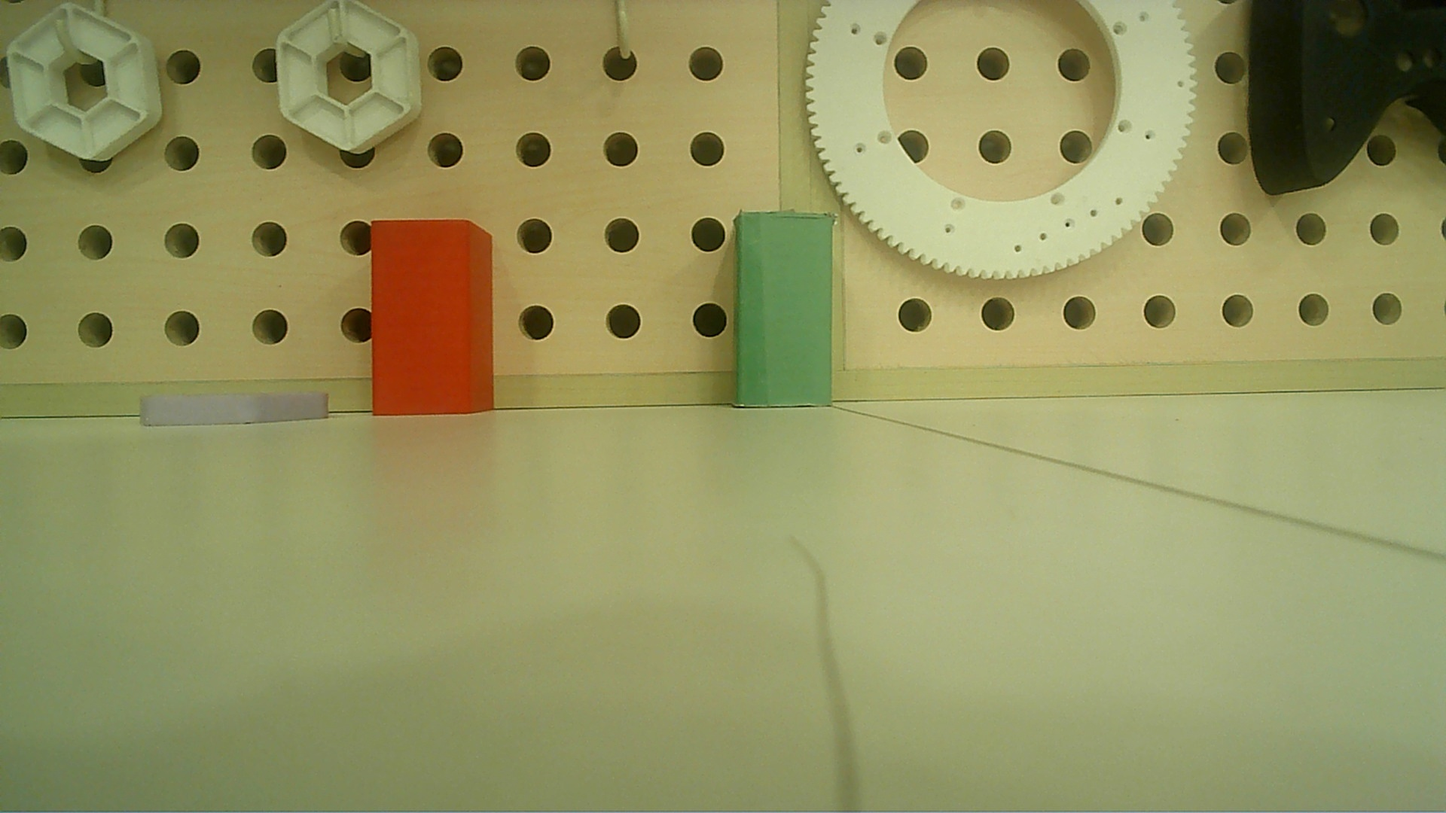red: (355, 209, 503, 429)
